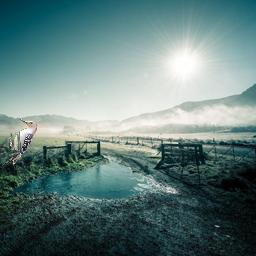Woodpecker: (1, 118, 38, 168)
